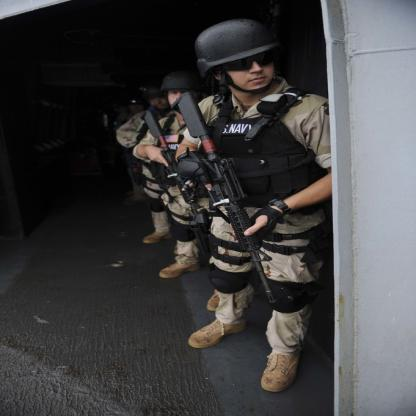Helmet: (193, 16, 292, 109), (158, 74, 204, 94)
